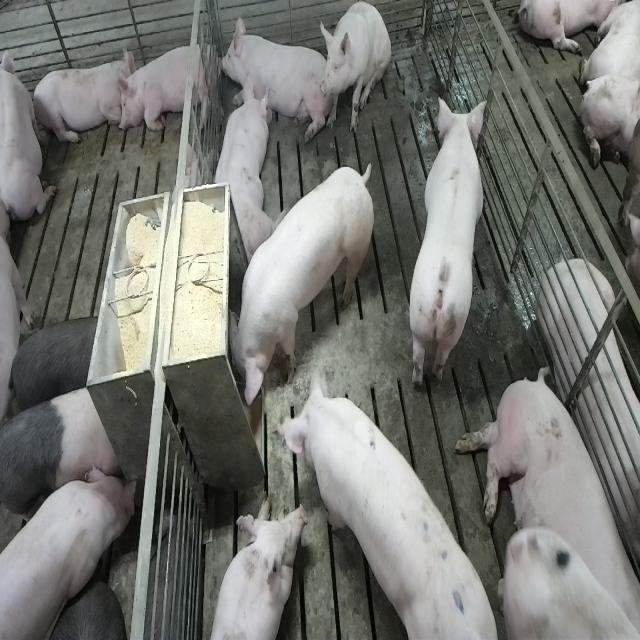Feeding: (221, 162, 369, 414)
Lateral_lying: (452, 363, 638, 635), (538, 256, 640, 578)
Sitting: (321, 2, 391, 136)
Standing: (270, 367, 510, 640), (409, 93, 490, 395), (2, 462, 138, 640), (2, 382, 124, 554), (4, 313, 102, 425)
Sternal_lying: (204, 499, 305, 640), (216, 11, 326, 139), (210, 79, 273, 259), (3, 38, 57, 225), (30, 51, 132, 149), (117, 38, 215, 138)
